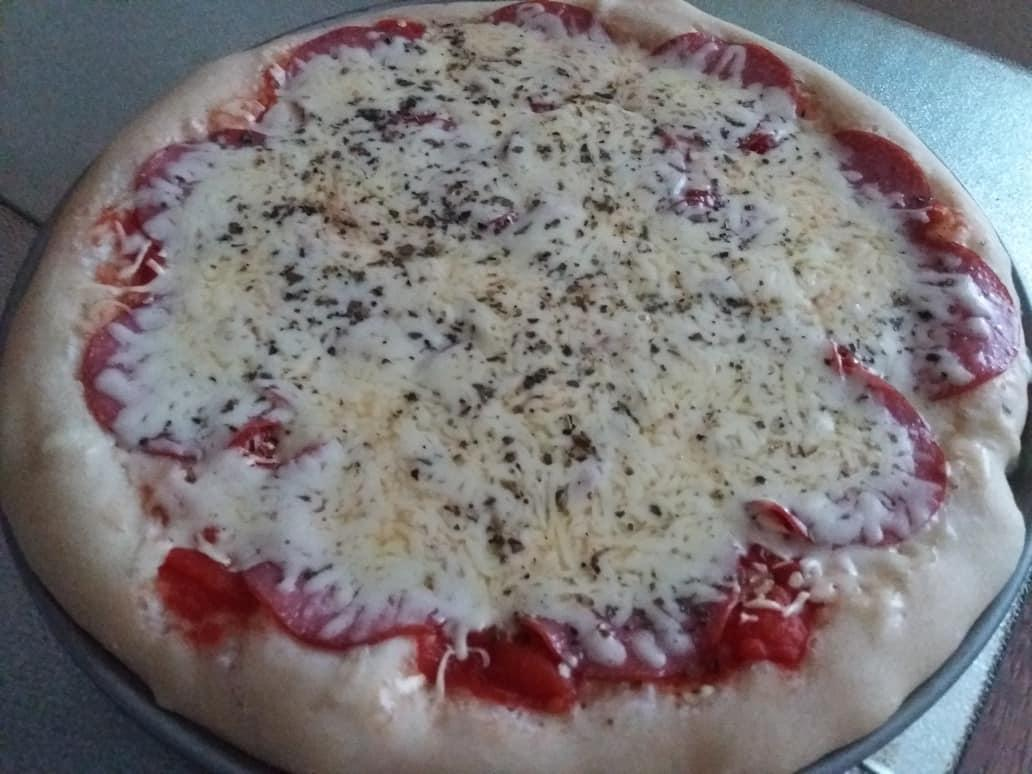Ham: (751, 353, 943, 548), (83, 310, 281, 454), (250, 549, 470, 649), (532, 570, 744, 663), (896, 232, 1014, 398), (134, 132, 284, 253), (649, 31, 787, 151), (282, 29, 416, 113), (809, 131, 932, 221), (481, 0, 596, 48)
Pizza: (0, 0, 1032, 774)
